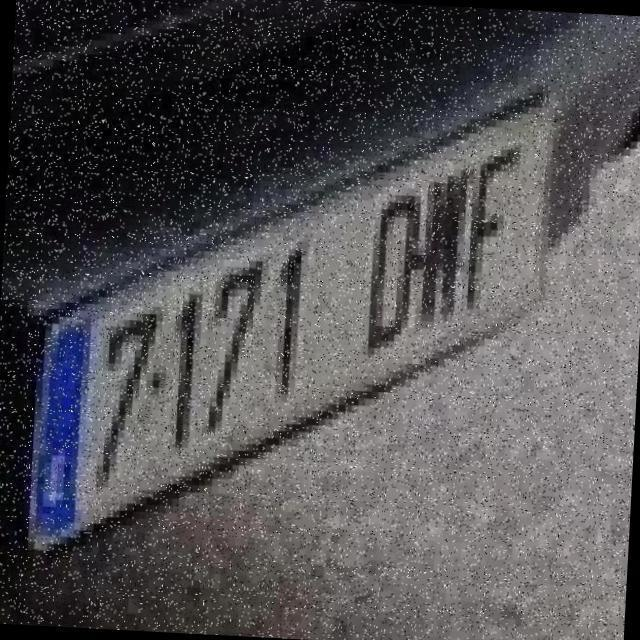License Plate: (20, 57, 568, 588)
